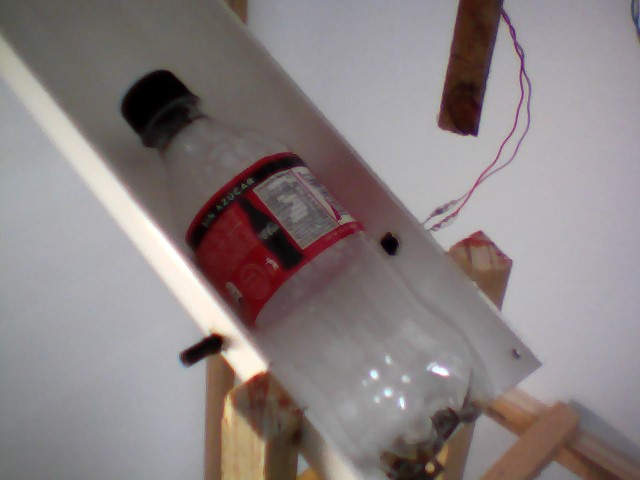plastico: (108, 61, 501, 480)
